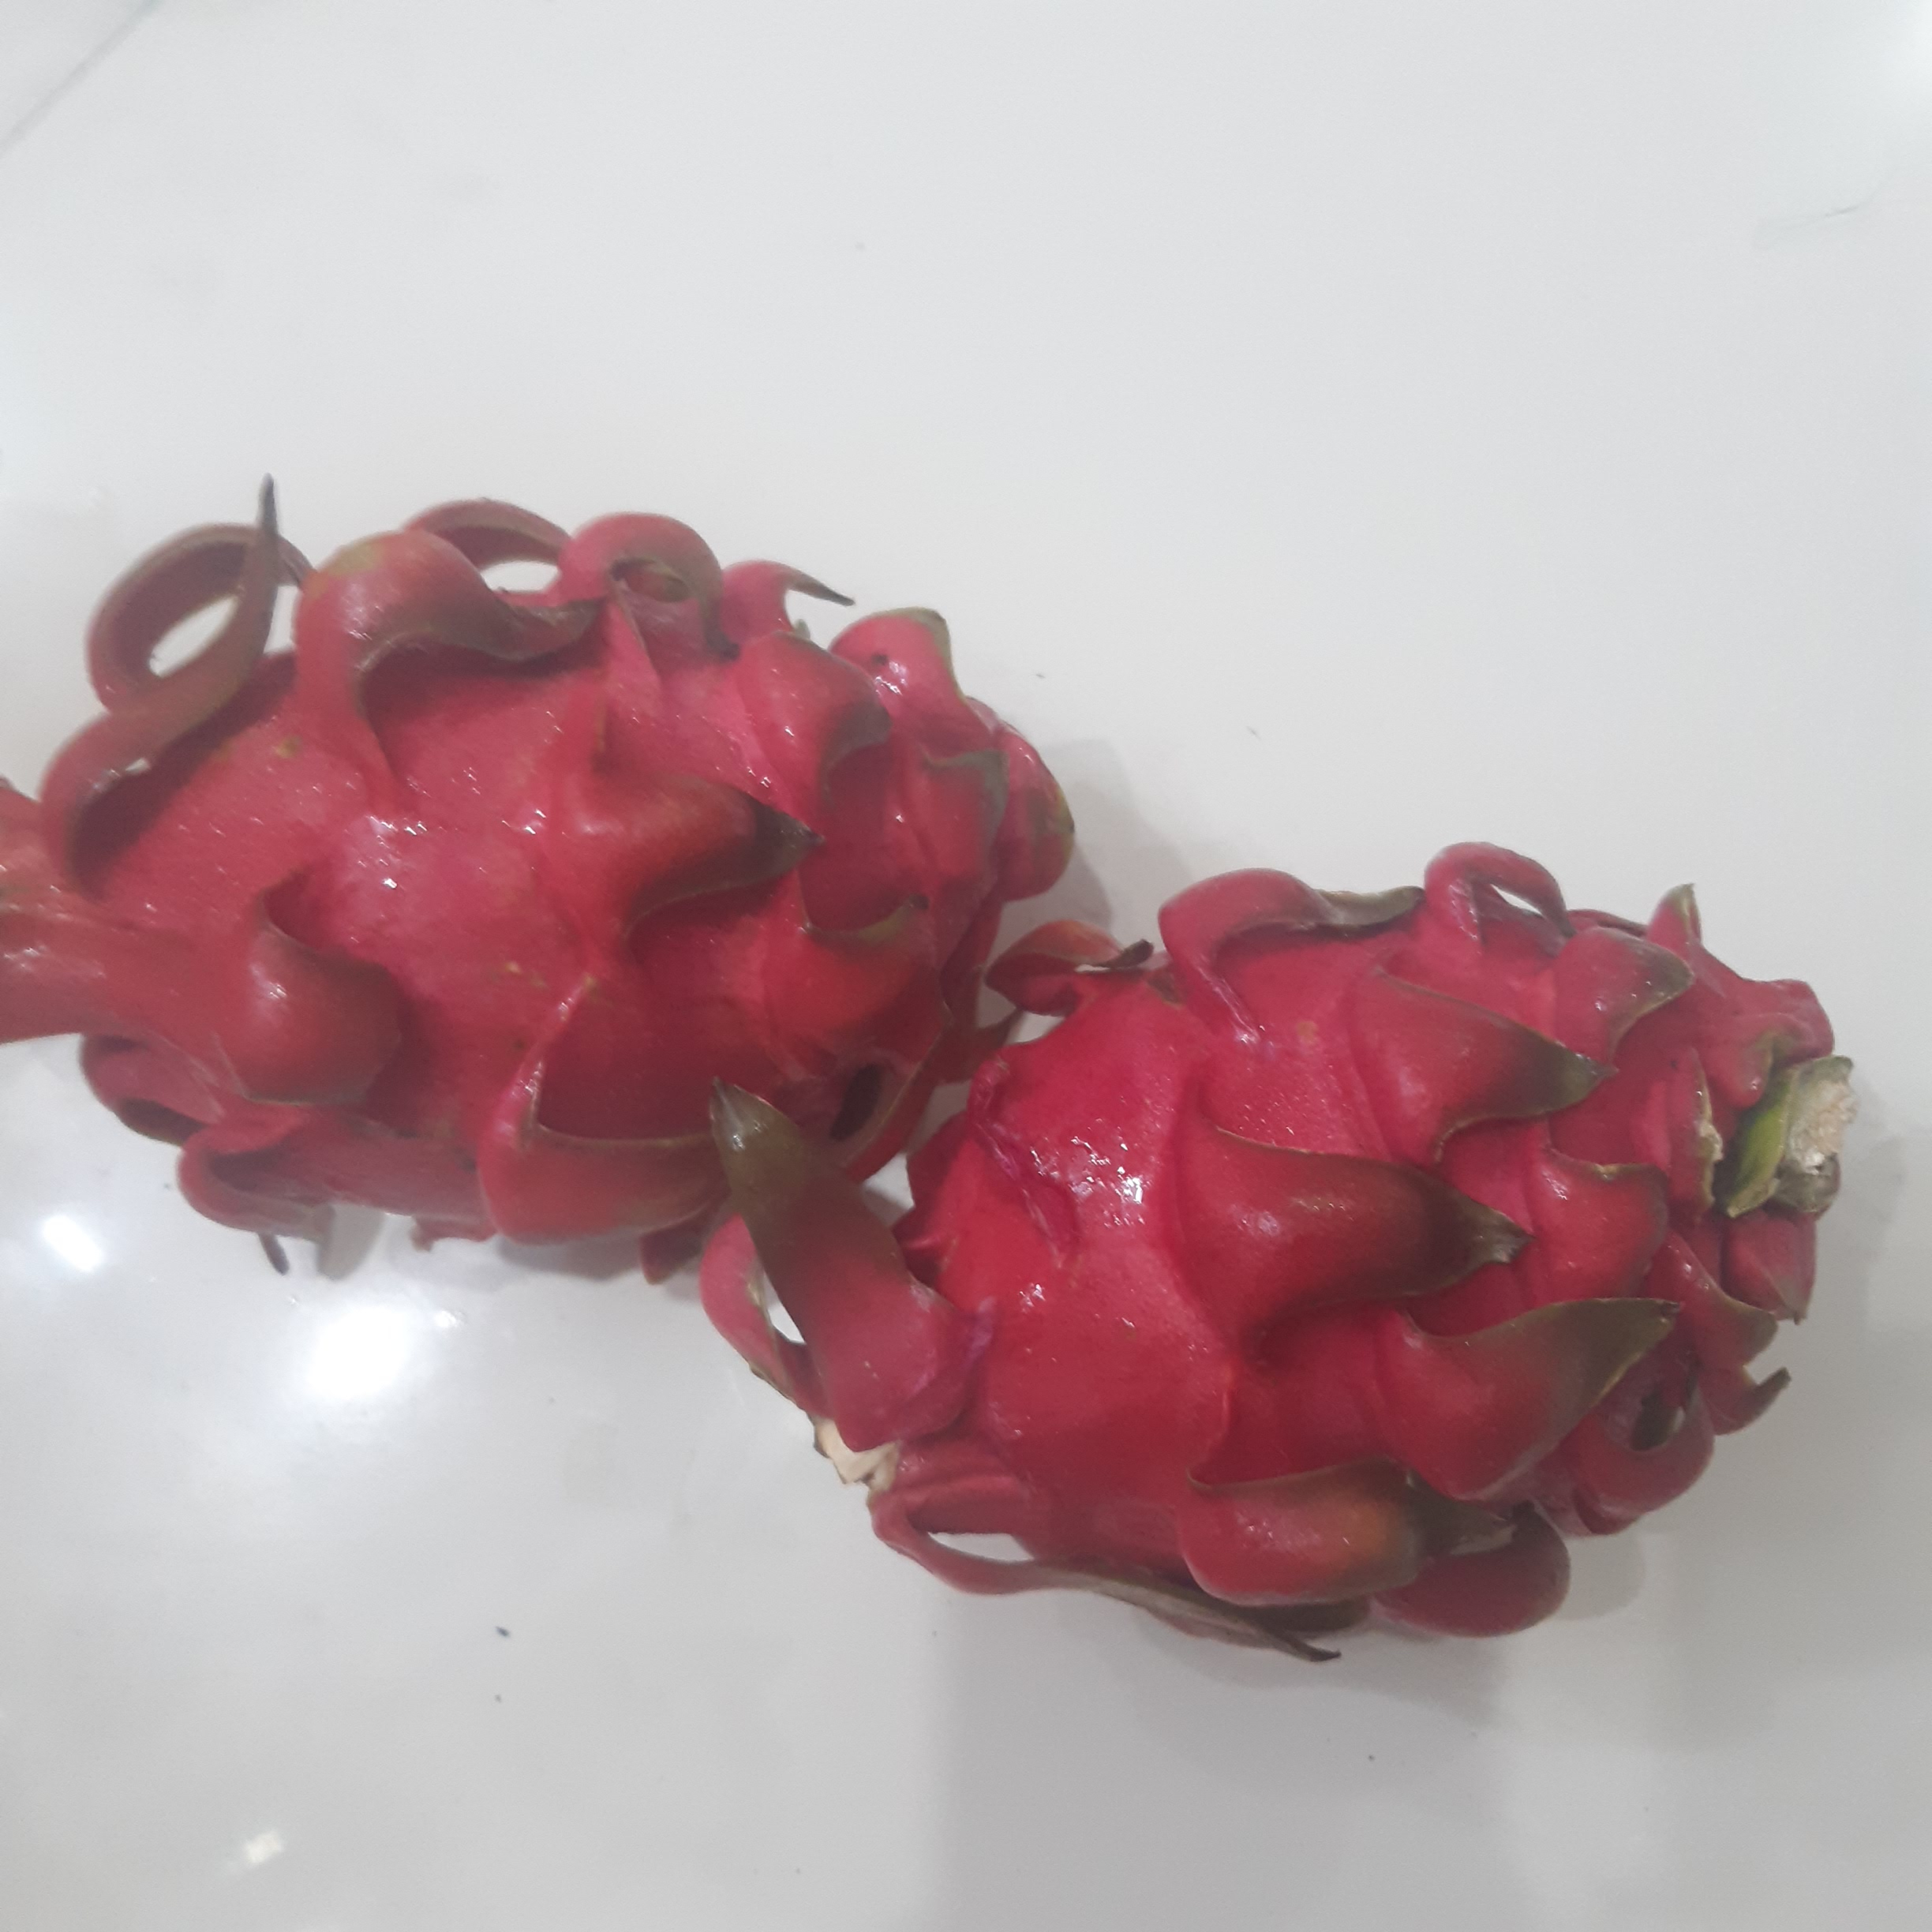Thanh long: (782, 888, 1854, 1651), (58, 568, 1065, 1208)
